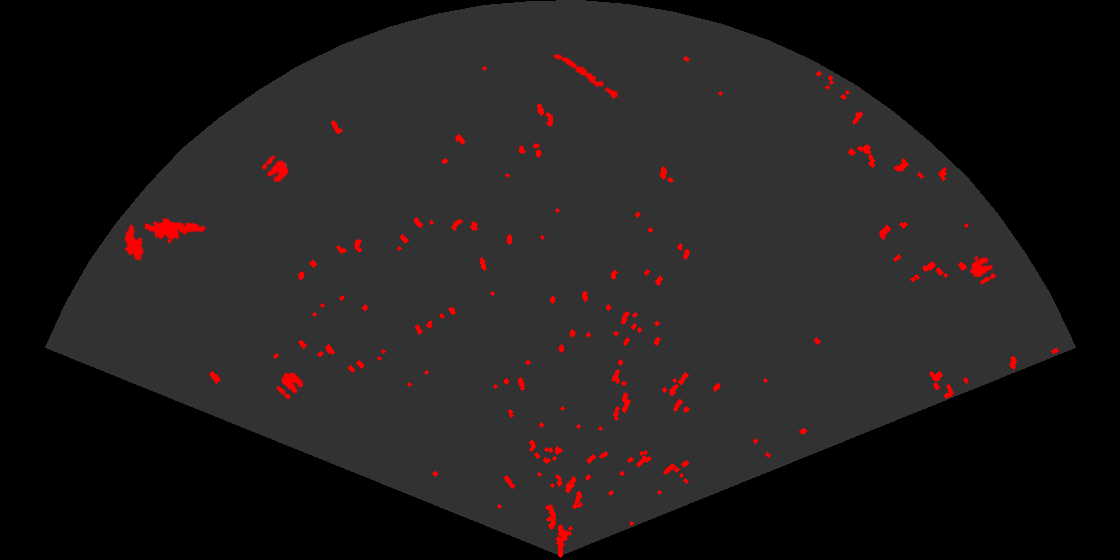AUV: (123, 222, 146, 262)
ball: (260, 154, 290, 184), (275, 371, 305, 401), (968, 255, 997, 286)
chain: (552, 52, 628, 105)
frogman: (145, 216, 208, 245)
